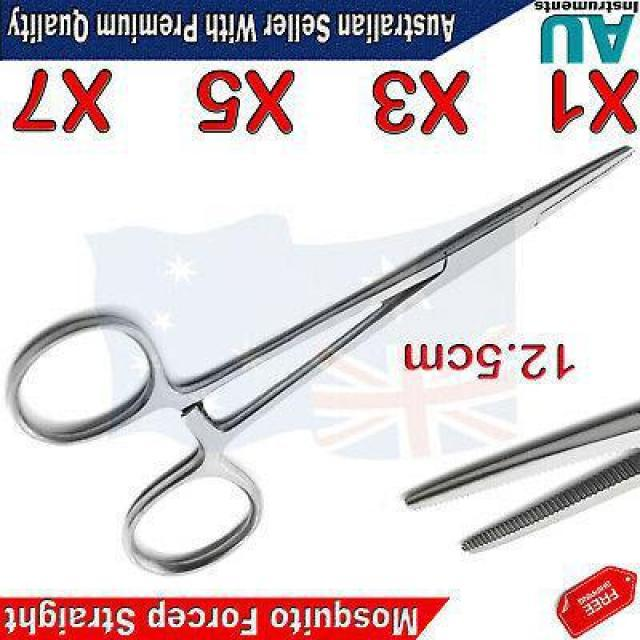Hemostat: (0, 140, 640, 580), (400, 403, 637, 562)
